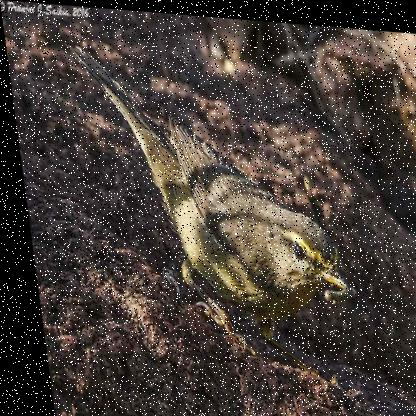Burung: (66, 40, 359, 341)
